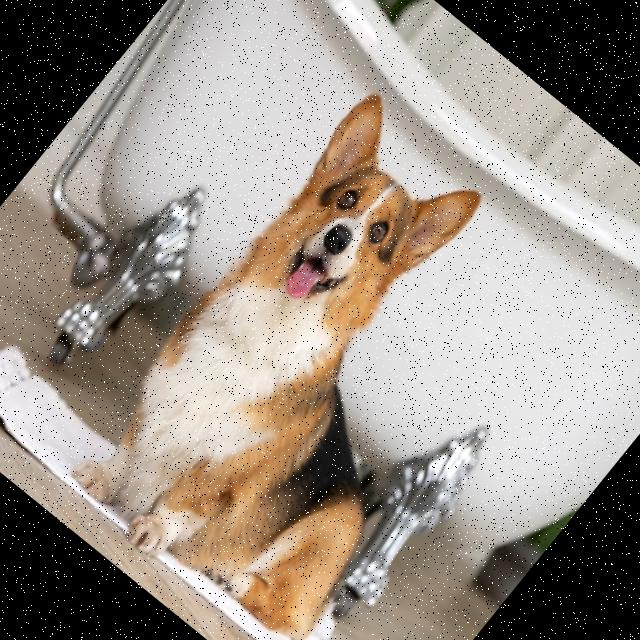Dog: (50, 87, 600, 640)
